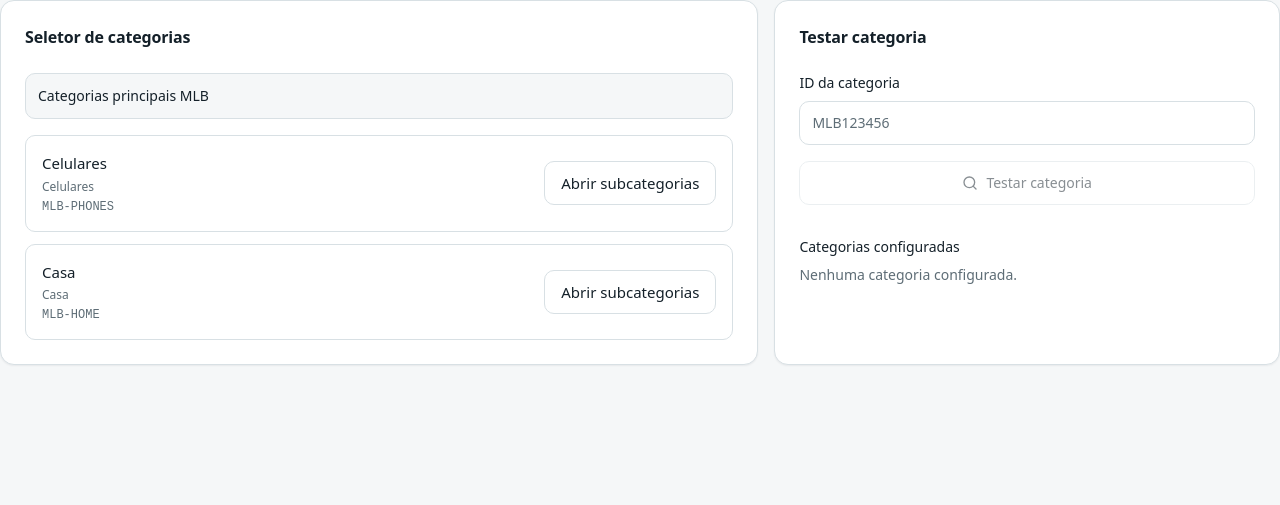
Test: MercadoLivreCategoryExplorer › renders an inline error without leaving the route
The image size is (1280, 505).
(page scrolled)
Click the button "Abrir subcategorias" in the row of "MLB-PHONES". click: (630, 183)
box: [544, 161, 716, 205]
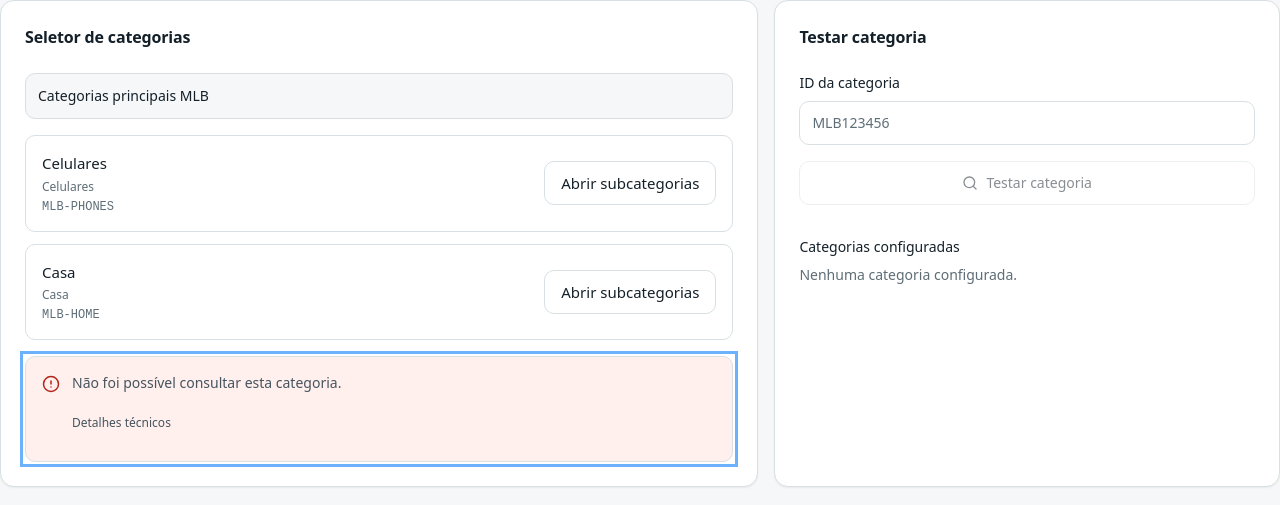
Check: the text "Não foi possível consultar esta categoria." is shown, box [72, 373, 341, 392]
